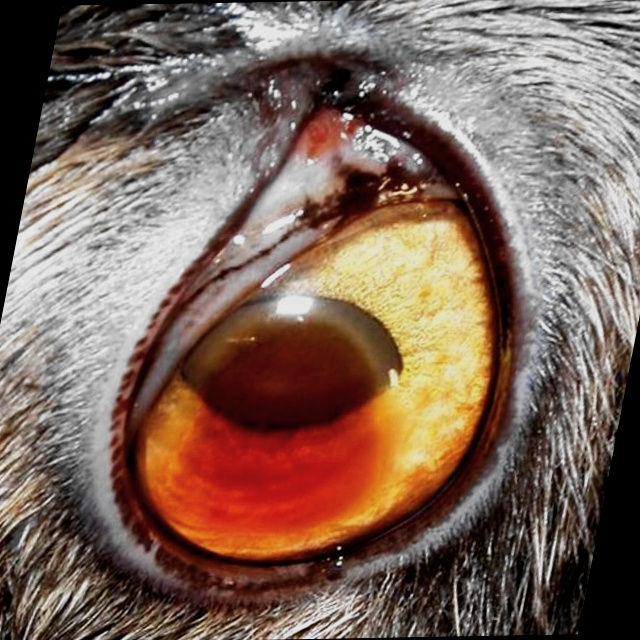eye_infection: (87, 86, 574, 573)
